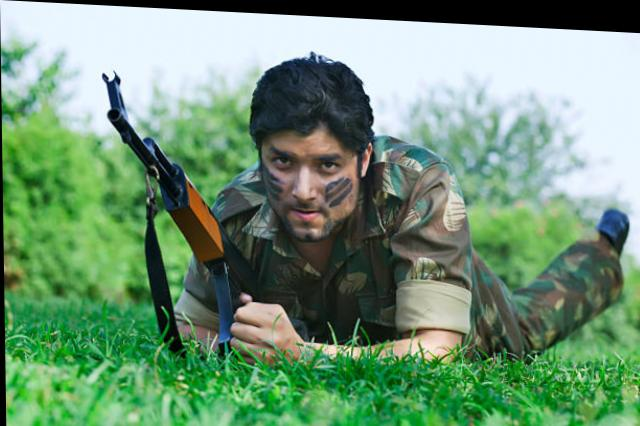other: (176, 41, 628, 364)
